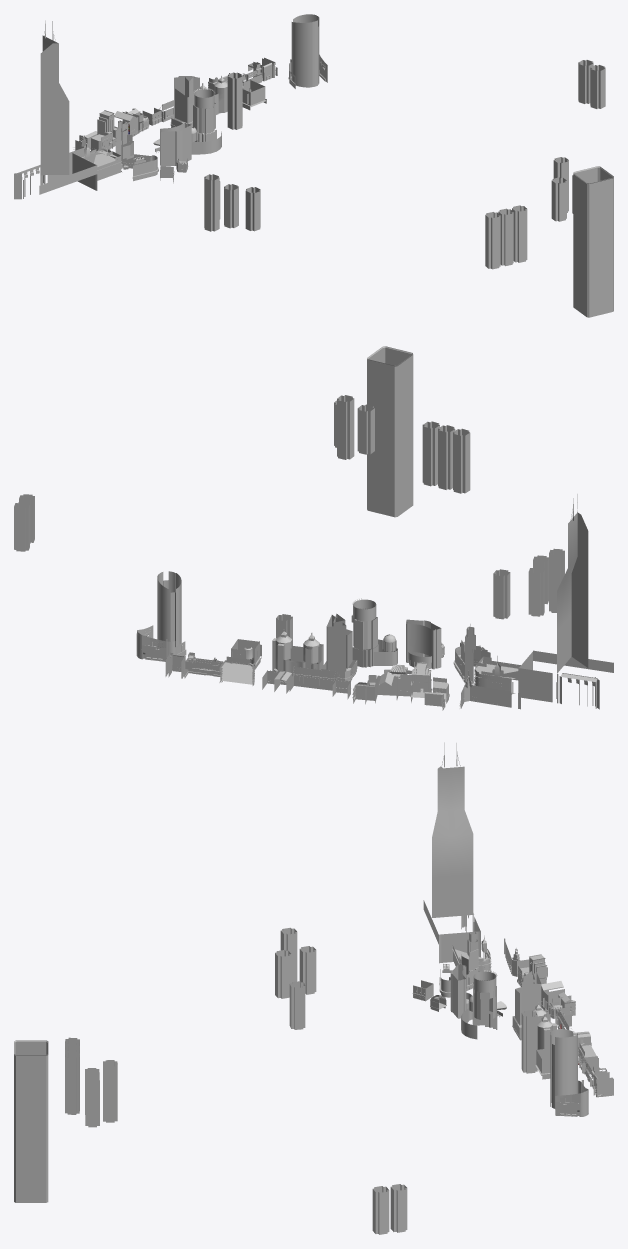
The model's file is nanjing_bd.FBX.
3 views of the same model, one above another, from view 1: azimuth 30°, elevation 25°; view 2: azimuth 150°, elevation 25°; view 3: azimuth 270°, elevation 25° (orthographic). The views are drawn at different scales.
Parts seen in each view (by area): view 1: nanjing_bd02, puton_bd01_01, nanjing_bd01; view 2: nanjing_bd02, puton_bd01_01, nanjing_bd01; view 3: nanjing_bd02, puton_bd01_01, nanjing_bd01.
Part boxes in pixels (box(x1,y1,x2,y2)): nanjing_bd02: box(14, 14, 327, 199); puton_bd01_01: box(204, 60, 613, 317); nanjing_bd01: box(79, 57, 275, 183); nanjing_bd02: box(136, 494, 613, 709); puton_bd01_01: box(14, 346, 564, 645); nanjing_bd01: box(165, 641, 480, 710); nanjing_bd02: box(423, 742, 588, 1116); puton_bd01_01: box(14, 927, 537, 1234); nanjing_bd01: box(412, 954, 613, 1097).
Size of the model in its own units: 1225 by 509 by 1046.
